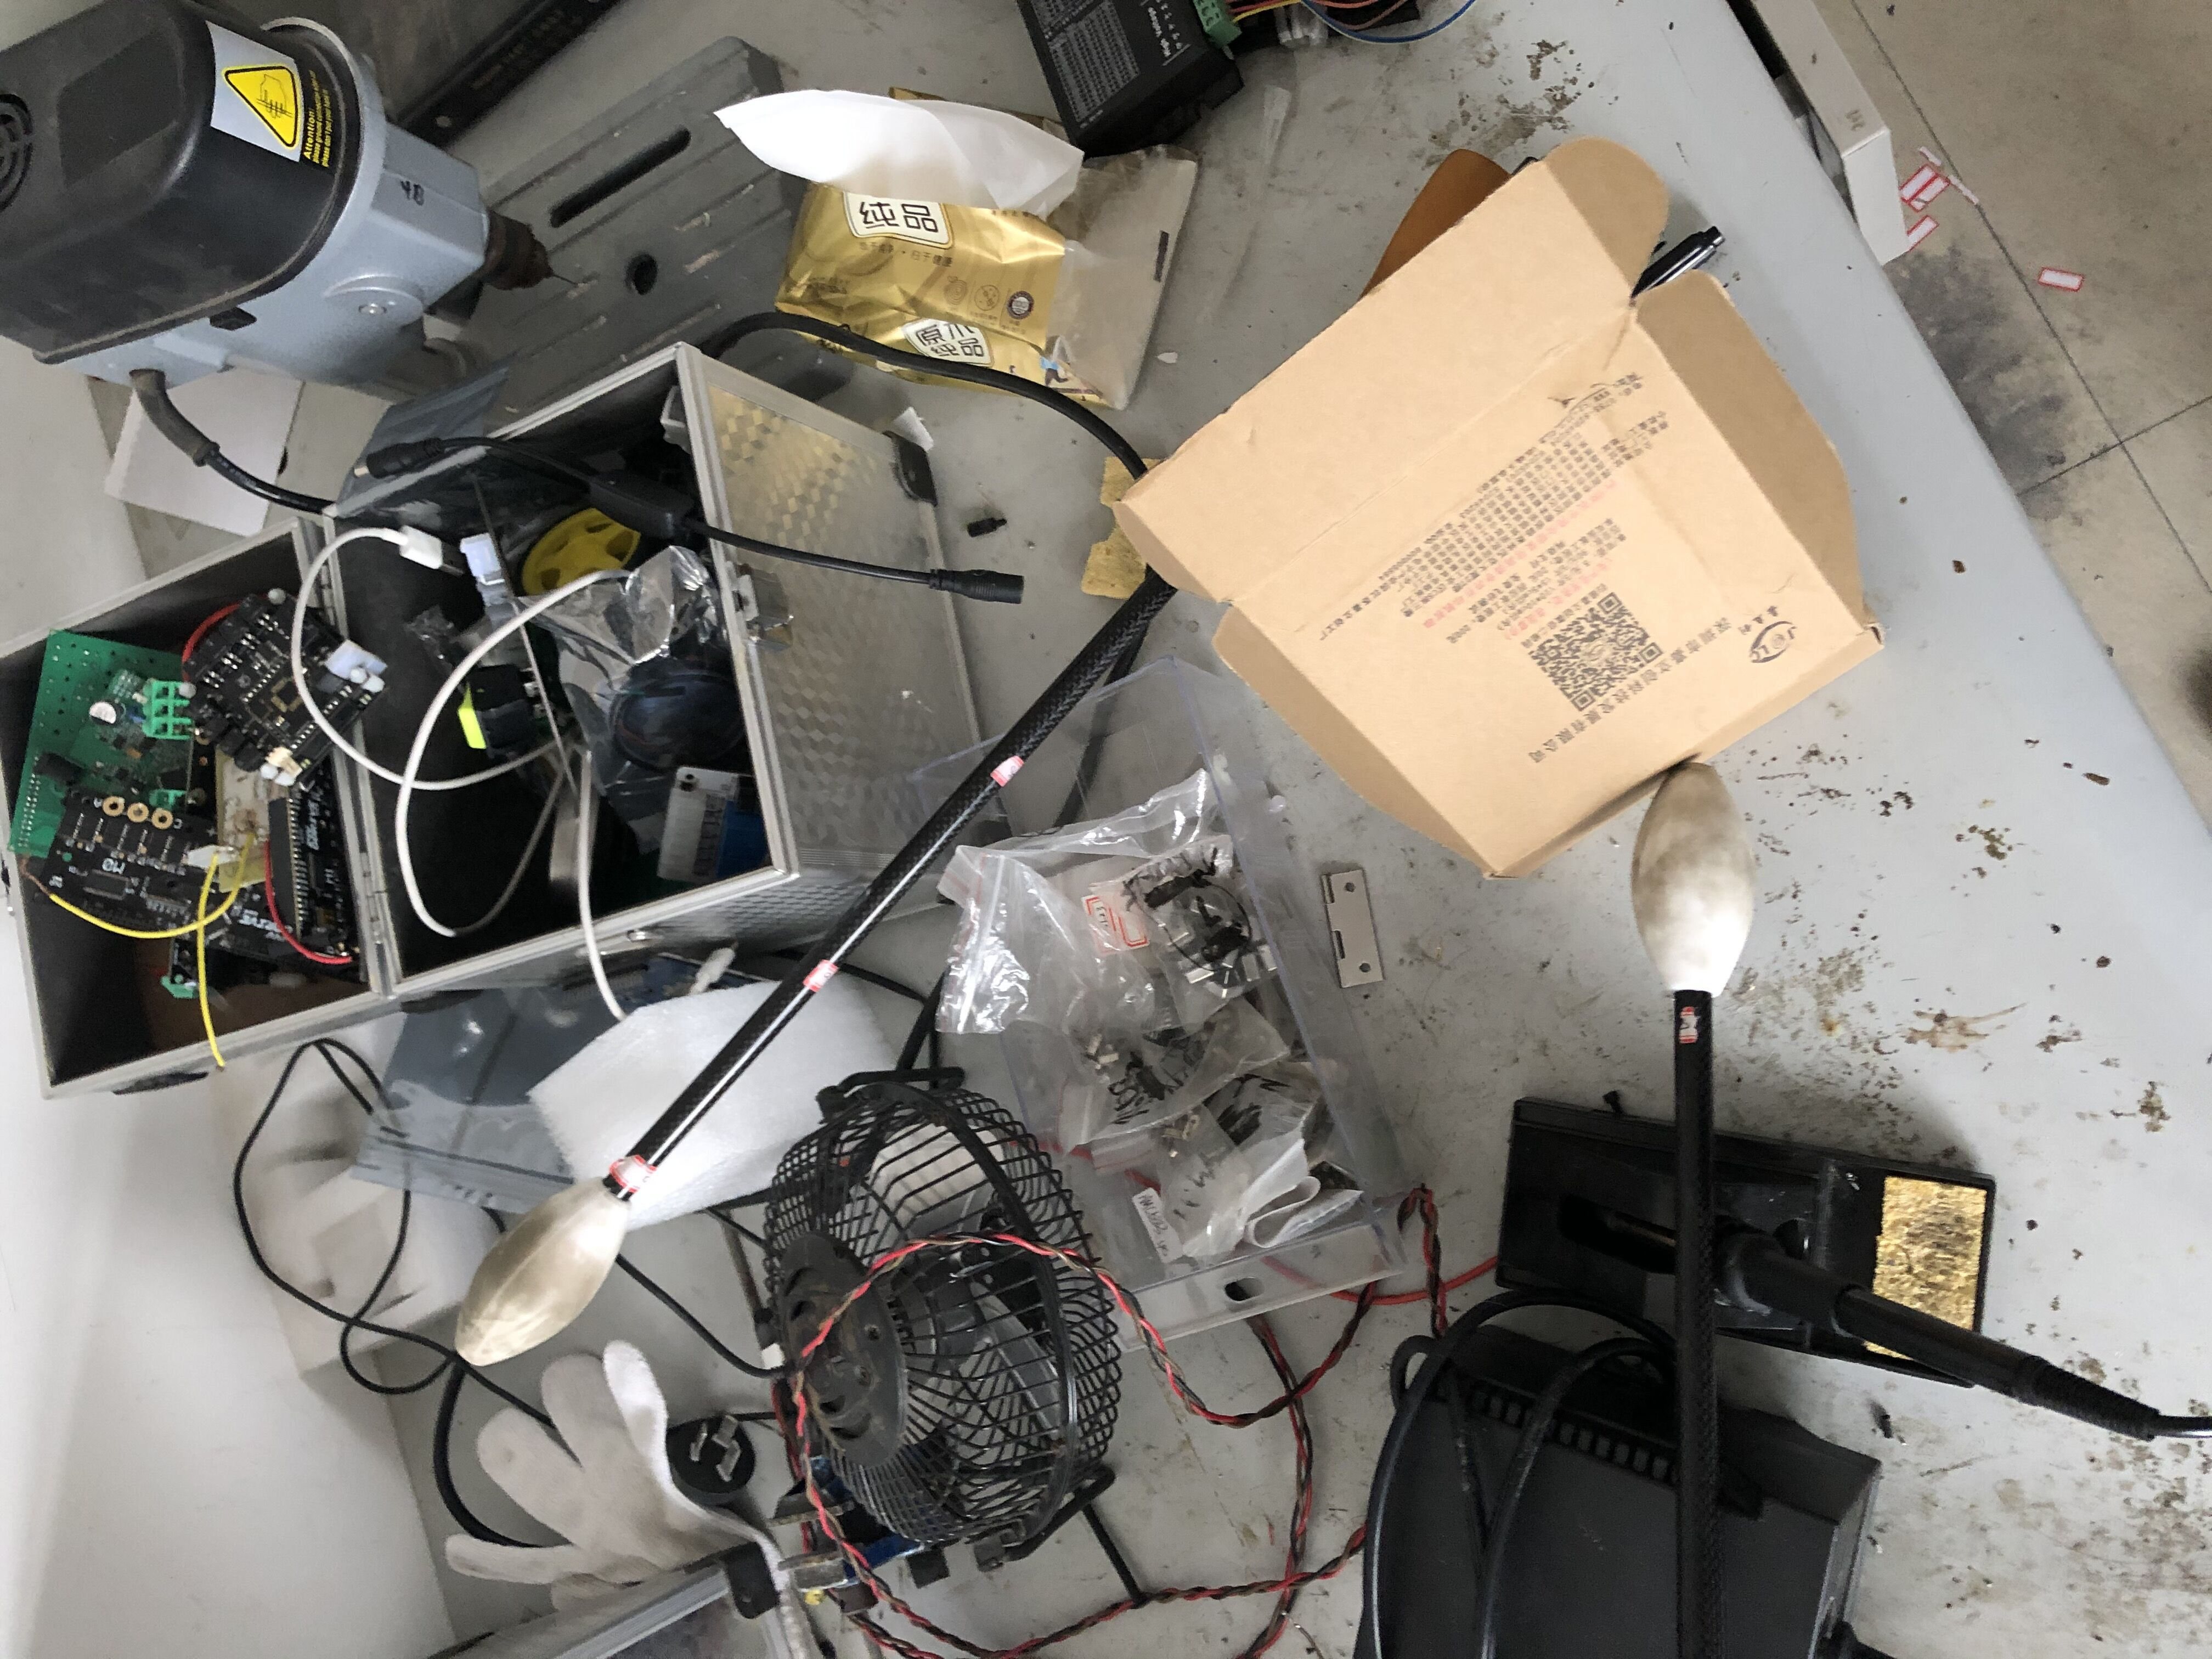arrow: (455, 552, 1181, 1366)
arrowFront: (455, 1175, 636, 1370)
